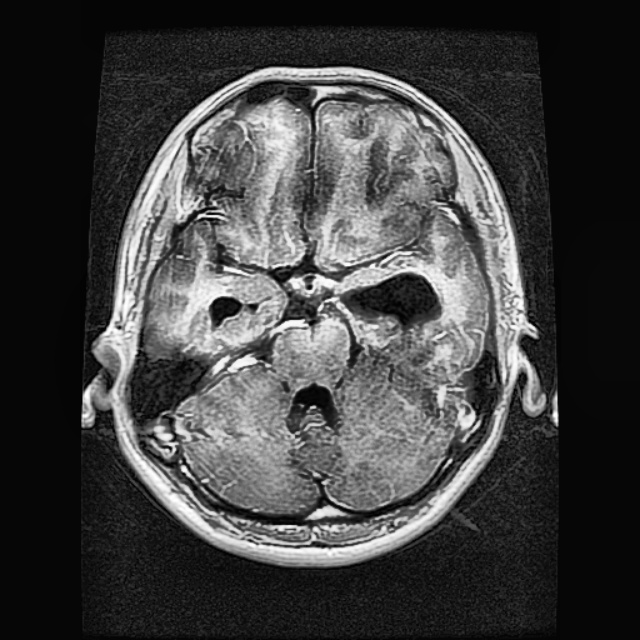Glioma: (344, 277, 439, 320)
